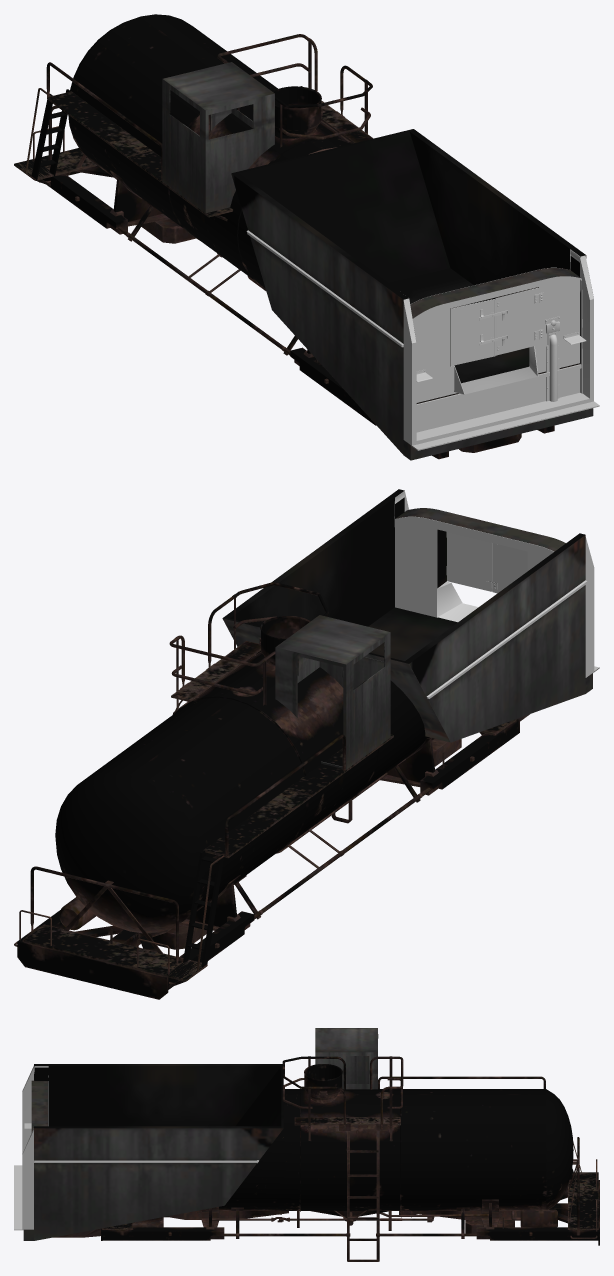
File: Auxiliary Tender1B.fbx
3 views of the same model, one above another, from view 1: azimuth 30°, elevation 25°; view 2: azimuth 150°, elevation 25°; view 3: azimuth 270°, elevation 25° (orthographic). The views are drawn at different scales.
Visible parts, largest first — view 1: s282_tender, CarTankShort_LOD0, s282_tender_cab, Cube, CarTankShort_LOD0.014, s282_tender.002, CarTankShort_LOD0.001, s282_locomotive_body.001, CarTankShort_LOD0.013, CarTankShort_LOD0.007, CarTankShort_LOD0.012, CarTankShort_LOD0.019; view 2: CarTankShort_LOD0, s282_tender, s282_tender_cab, Cube, CarTankShort_LOD0.012, s282_tender.002, CarTankShort_LOD0.014, CarTankShort_LOD0.013, CarTankShort_LOD0.001, s282_locomotive_body.001, CarTankShort_LOD0.018, CarTankShort_LOD0.019 (+1 smaller); view 3: CarTankShort_LOD0, s282_tender, Cube, s282_tender_cab, CarTankShort_LOD0.012, CarTankShort_LOD0.001, s282_tender.002, CarTankShort_LOD0.019, CarTankShort_LOD0.007.
Boxes of the visible parts, x1,y1,x2,y2 form: s282_tender: (231,129,593,460); CarTankShort_LOD0: (39,14,431,425); s282_tender_cab: (246,230,599,450); Cube: (162,62,274,213); CarTankShort_LOD0.014: (47,91,151,157); s282_tender.002: (410,268,581,366); CarTankShort_LOD0.001: (273,86,321,138); s282_locomotive_body.001: (31,111,67,180); CarTankShort_LOD0.013: (128,150,232,217); CarTankShort_LOD0.007: (141,219,195,243); CarTankShort_LOD0.012: (41,148,96,175); CarTankShort_LOD0.019: (46,62,162,180); CarTankShort_LOD0: (14,582,519,999); s282_tender: (222,489,599,742); s282_tender_cab: (394,491,599,698); Cube: (275,615,390,769); CarTankShort_LOD0.012: (22,924,183,976); s282_tender.002: (396,508,565,588); CarTankShort_LOD0.014: (203,790,310,857); CarTankShort_LOD0.013: (286,734,393,797); CarTankShort_LOD0.001: (260,616,310,666); s282_locomotive_body.001: (183,879,219,966); CarTankShort_LOD0.018: (30,866,178,964); CarTankShort_LOD0.019: (225,734,345,857); CarTankShort_LOD0: (101,1056,599,1261); s282_tender: (23,1064,283,1240); Cube: (315,1028,377,1089); s282_tender_cab: (14,1066,258,1230); CarTankShort_LOD0.012: (568,1179,598,1229); CarTankShort_LOD0.001: (304,1064,342,1103); s282_tender.002: (31,1080,47,1132); CarTankShort_LOD0.019: (378,1076,545,1088); CarTankShort_LOD0.007: (465,1220,514,1233).
Size of the model in its own units: 309 by 383 by 1150.
